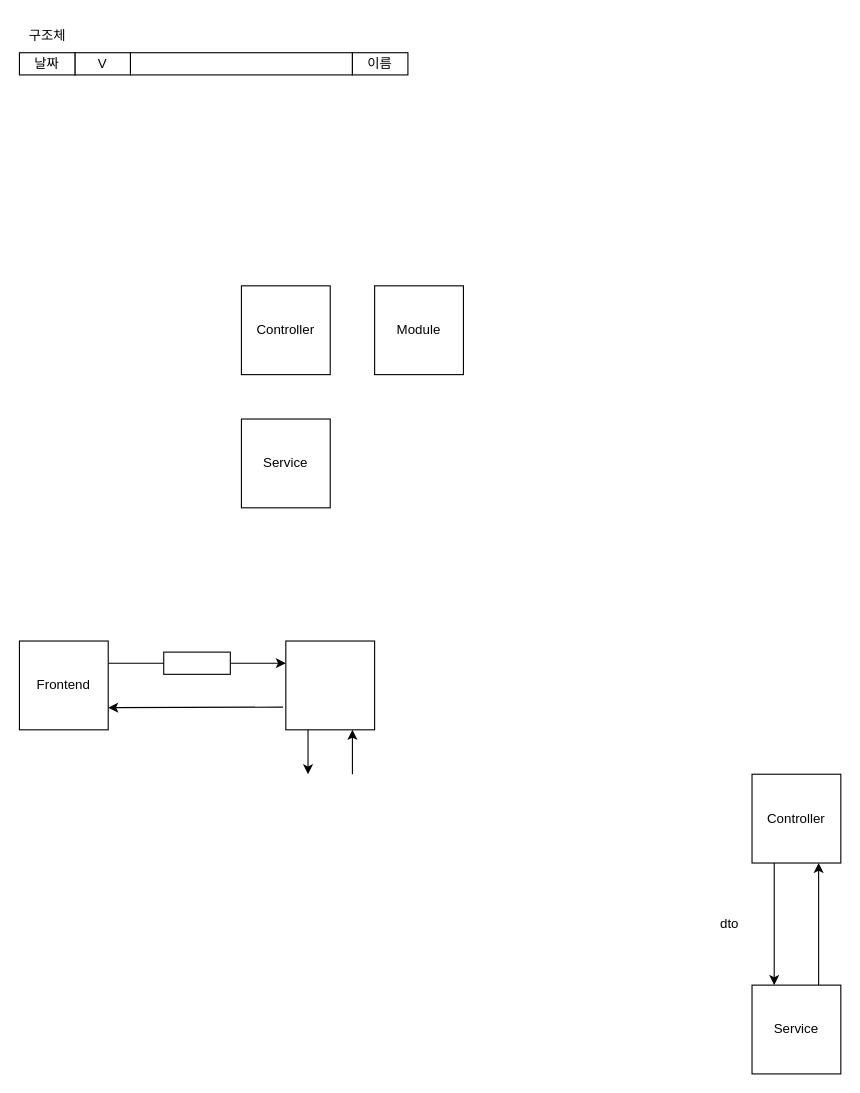
Image size: 860x1093. Some labels were removed from this diagram. The shapes that lost their labels are listed below. From the top down, each one's centre as x and y in pixels, then its label:
(x=240, y=63): 할일
(x=196, y=662): HTTP
(x=330, y=685): Backend
